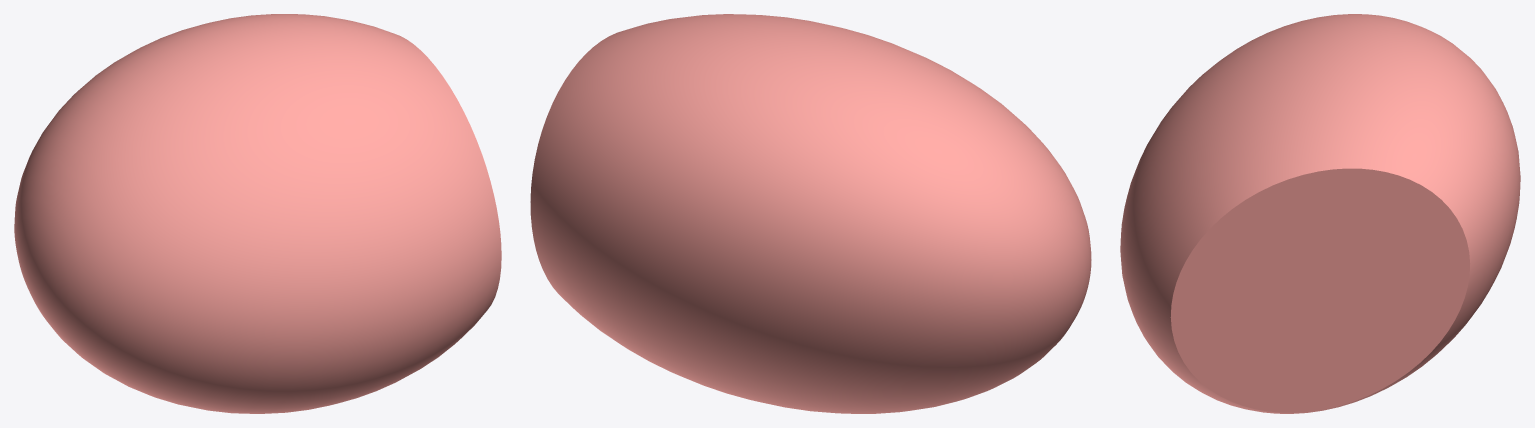
File: BladderPartialFill.fbx
3 renders of one model, left to right at view 1: azimuth 30°, elevation 25°; view 2: azimuth 150°, elevation 25°; view 3: azimuth 270°, elevation 25°, orthographic. The views are drawn at different scales.
Visible parts, largest first — view 1: Bladder; view 2: Bladder; view 3: Bladder.
Boxes of the visible parts, x1,y1,x2,y2 form: Bladder: (14, 14, 501, 413); Bladder: (530, 14, 1091, 413); Bladder: (1120, 14, 1520, 413).
Bounding box in the file's own units: 65.16 × 51.63 × 57.35.
